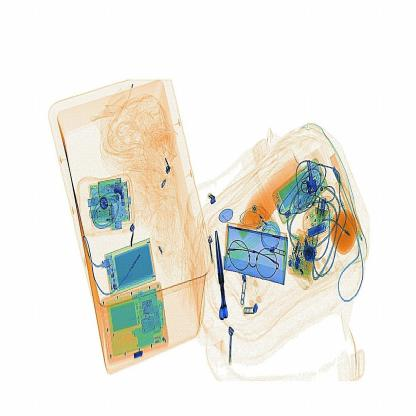gun: (205, 219, 243, 336)
